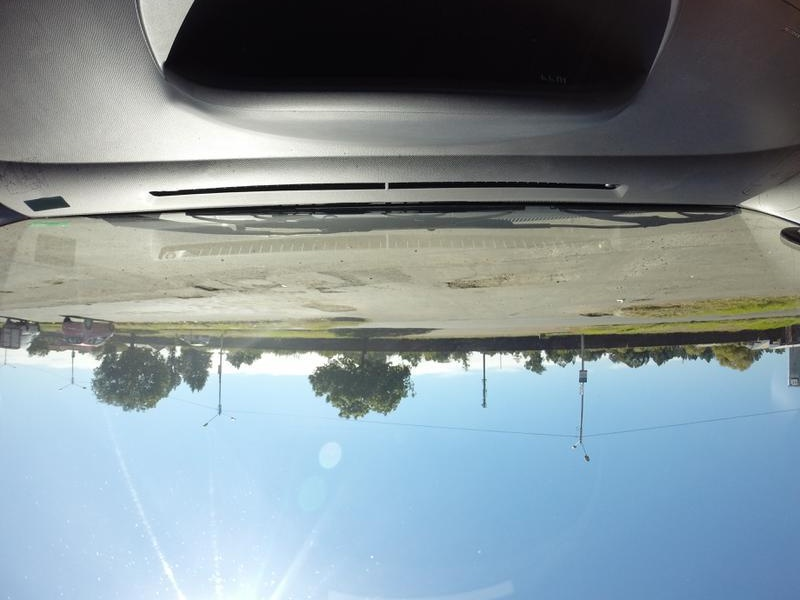pothole: (311, 263, 397, 295), (438, 270, 517, 299), (293, 297, 354, 316), (246, 267, 280, 296), (569, 304, 613, 324), (171, 289, 208, 309), (39, 271, 66, 293), (192, 277, 223, 294)
